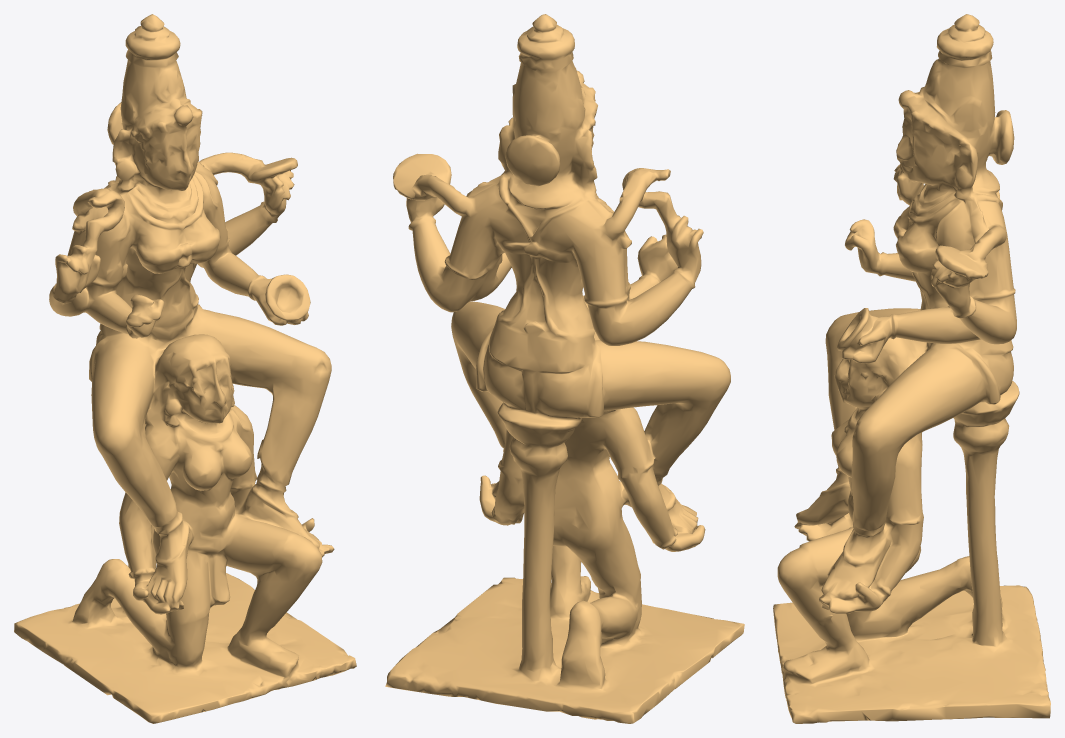
File: Grama_Devadhai_Bagavathi_Amman_01.glb
The picture shows the model from 3 angles, left to right: view 1: azimuth 30°, elevation 25°; view 2: azimuth 150°, elevation 25°; view 3: azimuth 270°, elevation 25°; orthographic projection. The views are drawn at different scales.
Parts seen in each view (by area): view 1: Grama_Devadhai_Bagavathi_Amman_01; view 2: Grama_Devadhai_Bagavathi_Amman_01; view 3: Grama_Devadhai_Bagavathi_Amman_01.
Boxes of the visible parts, x1,y1,x2,y2 form: Grama_Devadhai_Bagavathi_Amman_01: [14, 14, 356, 723]; Grama_Devadhai_Bagavathi_Amman_01: [385, 14, 744, 723]; Grama_Devadhai_Bagavathi_Amman_01: [773, 14, 1050, 723].
Bounding box in the file's own units: 0.3507 × 0.8018 × 0.3113.
